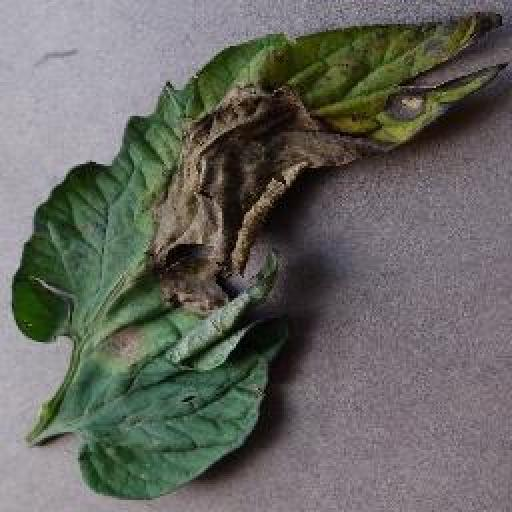disease_tomato: (9, 5, 512, 499)
